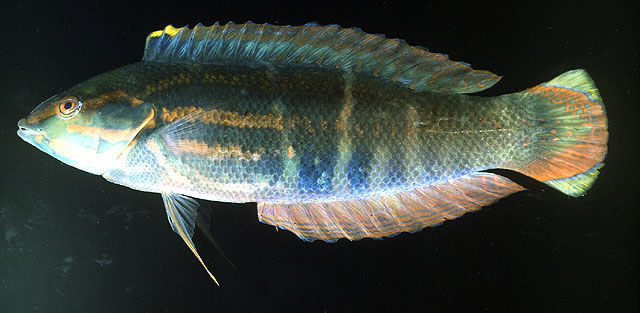fish: (17, 21, 609, 286)
